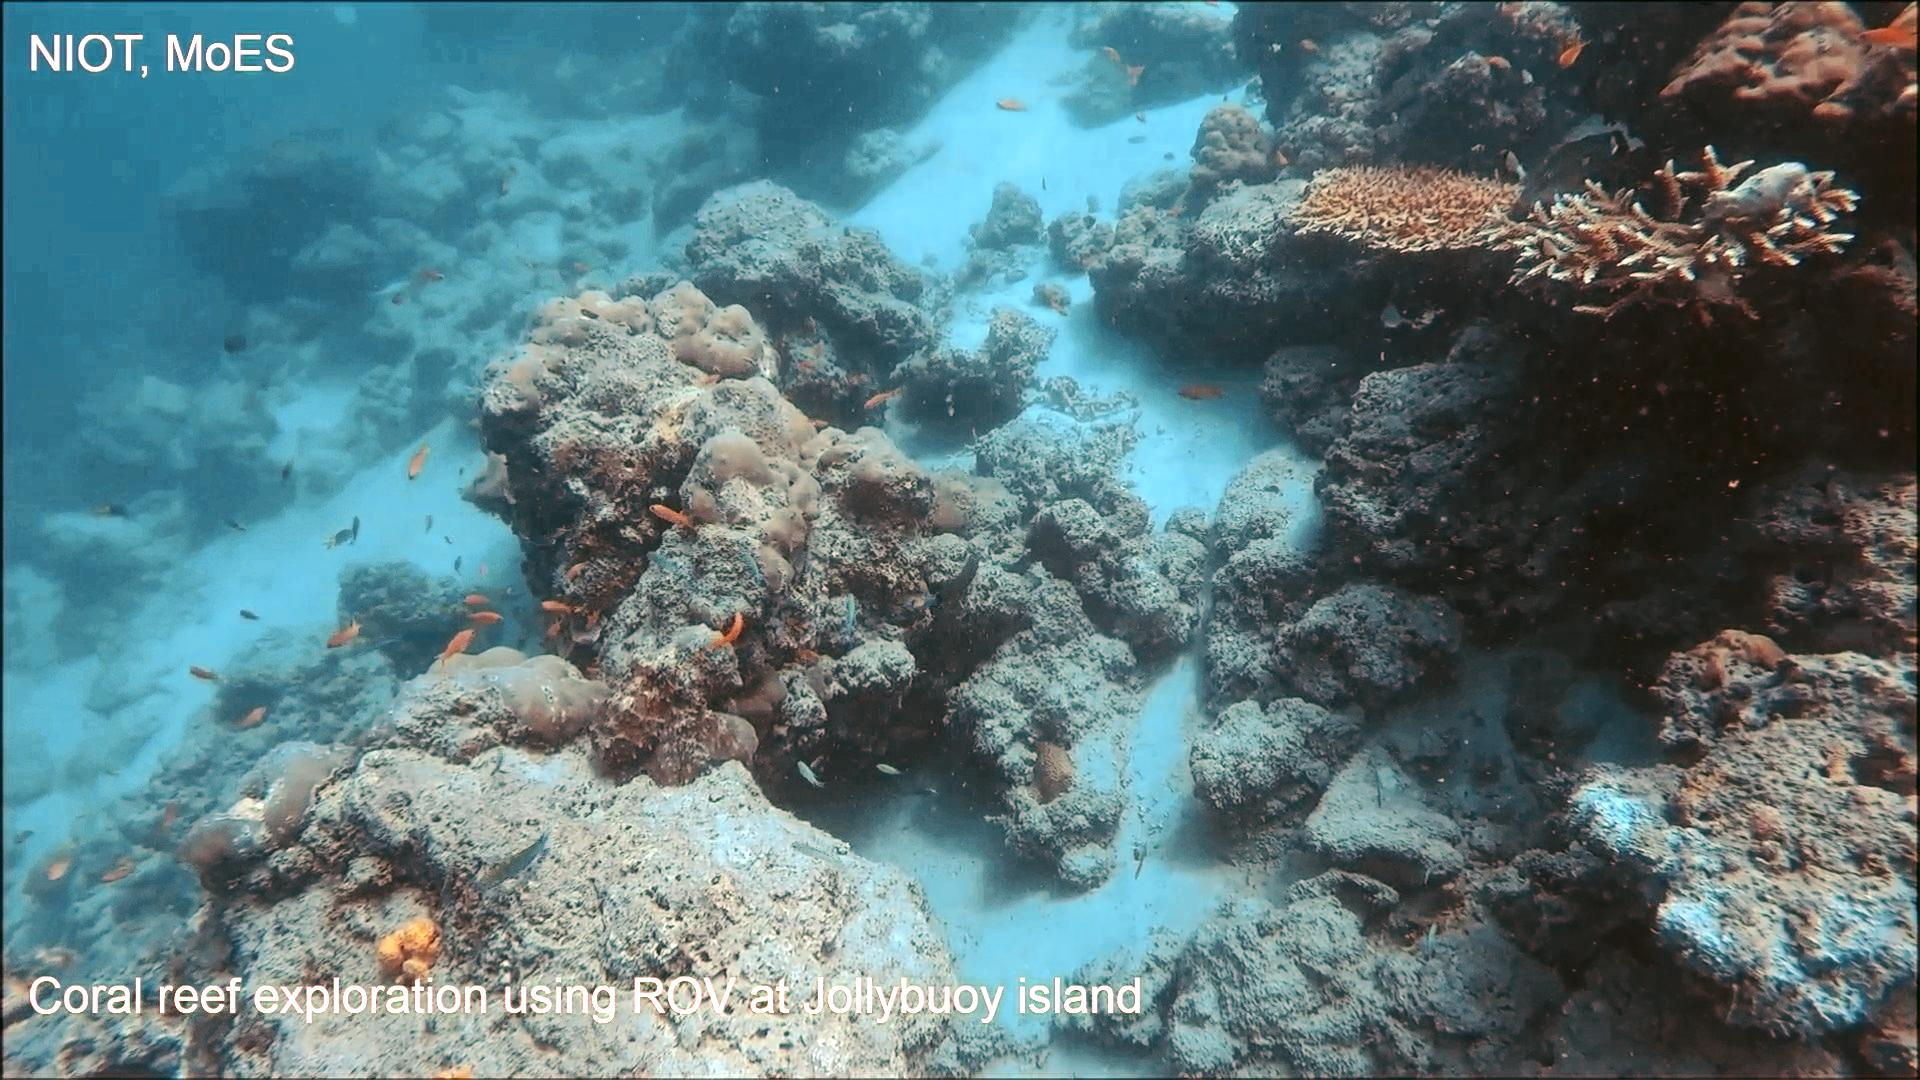Porites-Porites pukoensis: (609, 274, 857, 603)
